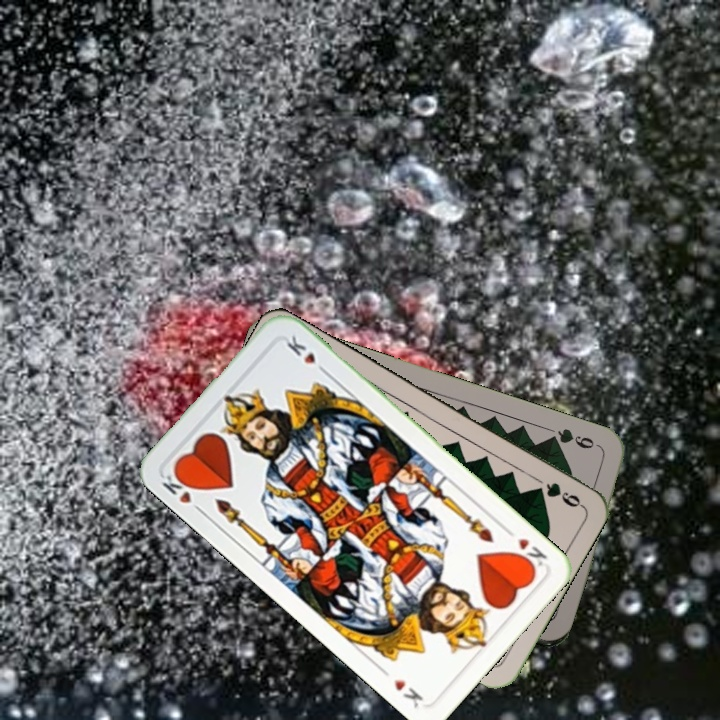G9: (543, 424, 604, 452), (542, 478, 585, 510)
HK: (158, 466, 207, 517), (510, 534, 550, 574)
